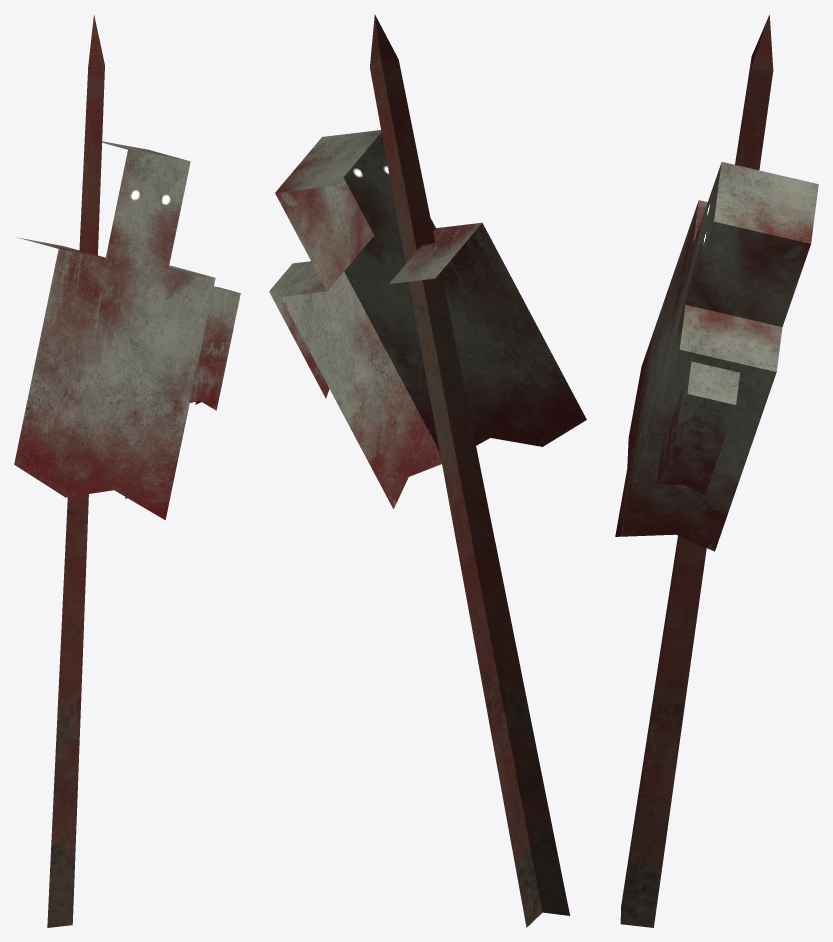
The model's file is Corpse_on_a_Pike_to_Unity.fbx.
The picture shows the model from 3 angles, left to right: view 1: azimuth 30°, elevation 25°; view 2: azimuth 150°, elevation 25°; view 3: azimuth 270°, elevation 25°; orthographic projection. The views are drawn at different scales.
Visible parts, largest first — view 1: Pike; view 2: Pike; view 3: Pike.
Boxes of the visible parts, x1,y1,x2,y2 form: Pike: (14, 15, 240, 927); Pike: (269, 14, 586, 927); Pike: (615, 15, 818, 927).
Bounding box in the file's own units: 62.1 × 203 × 38.96.
